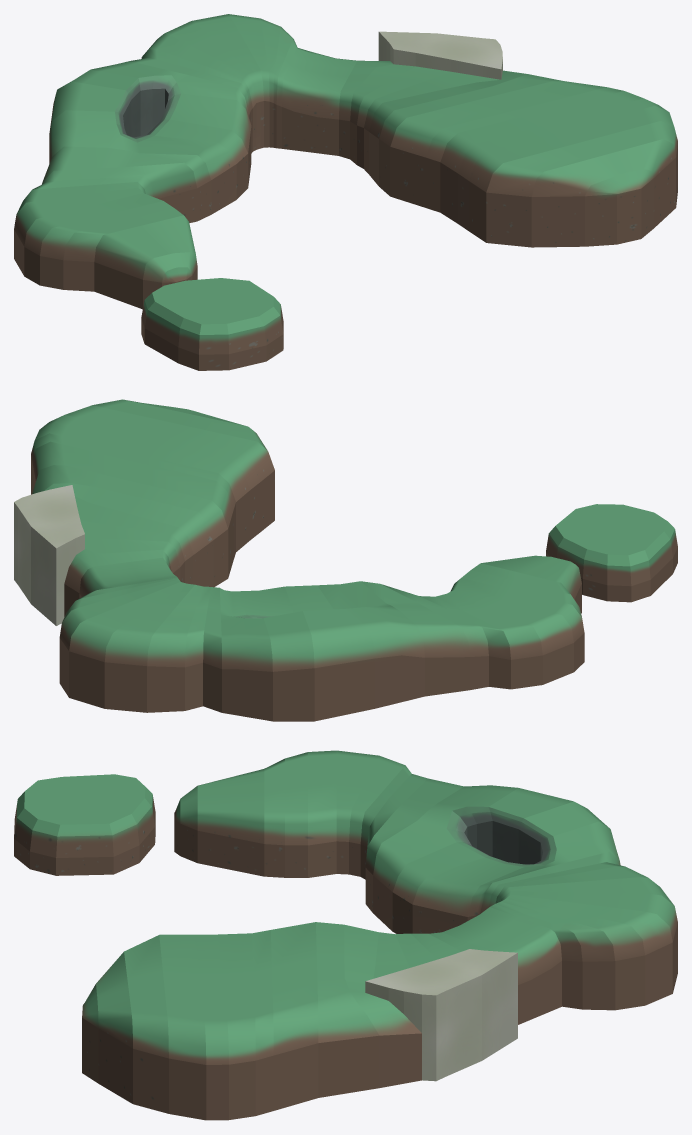
Rendered from Path3.fbx.
3 views of the same model, one above another, from view 1: azimuth 30°, elevation 25°; view 2: azimuth 150°, elevation 25°; view 3: azimuth 270°, elevation 25° (orthographic). The views are drawn at different scales.
Visible parts, largest first — view 1: pPlane3; view 2: pPlane3; view 3: pPlane3.
Part boxes in pixels (left/top/right/bottom): pPlane3: left=14, top=14, right=677, bottom=370; pPlane3: left=14, top=399, right=677, bottom=721; pPlane3: left=14, top=750, right=677, bottom=1120.
Bounding box in the file's own units: 11.23 × 1.44 × 9.96.
